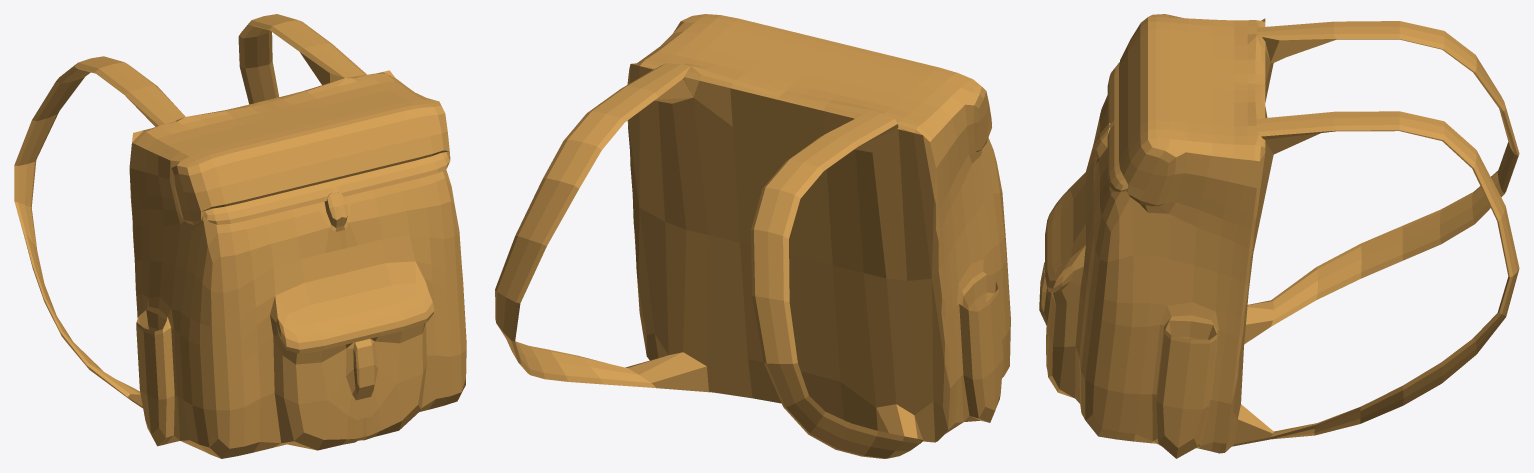
Rendered from backpack.fbx.
3 renders of one model, left to right at view 1: azimuth 30°, elevation 25°; view 2: azimuth 150°, elevation 25°; view 3: azimuth 270°, elevation 25°, orthographic. The views are drawn at different scales.
Parts seen in each view (by area): view 1: Plane; view 2: Plane; view 3: Plane.
Boxes of the visible parts, x1,y1,x2,y2 form: Plane: [14, 14, 466, 458]; Plane: [495, 14, 1010, 458]; Plane: [1039, 14, 1519, 458].
Bounding box in the file's own units: 166 × 152 × 206.
